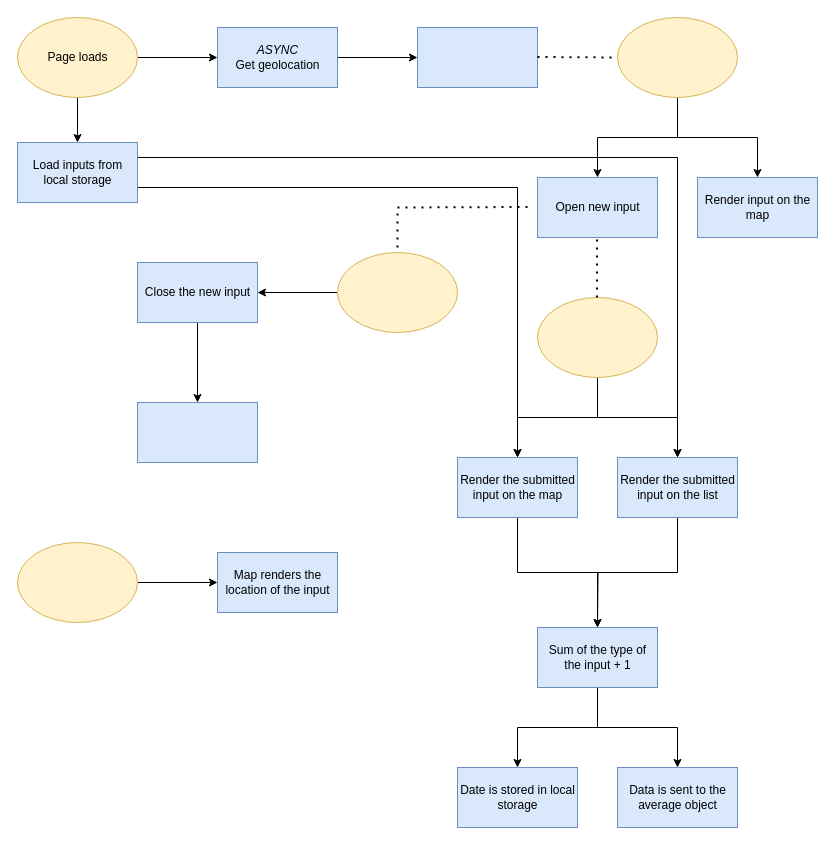
The diagram is 835 pixels wide and 845 high, and some of its shapes have lost their labels. Here are the shapes that lost their labels. From the top down, the box of each, then its label:
(416, 26, 538, 88): Render map of the user's coordinates
(616, 16, 738, 98): User clicks on the map
(336, 252, 458, 332): Users cancels the input
(536, 296, 658, 378): User submits the input
(136, 402, 258, 462): Remove the rendered input on the map
(16, 542, 138, 622): User clicks on the list input
